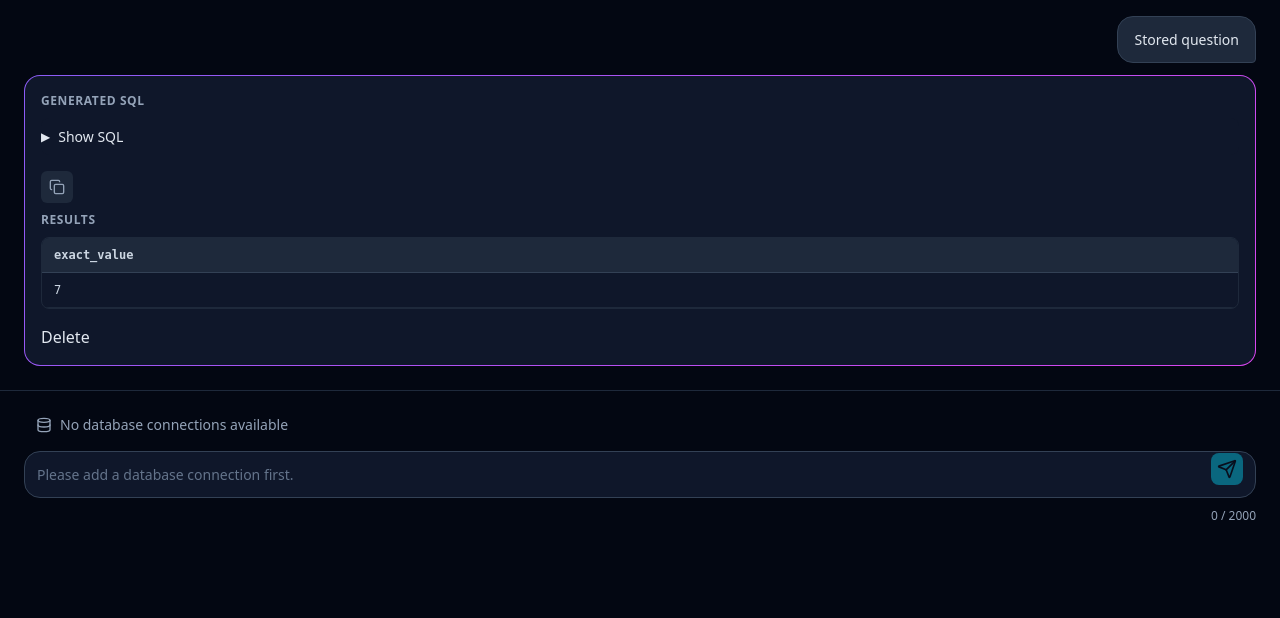
Scenario: Workspace result deletion recovery › restores the exact turn after a definite failure and retries once
This screenshot has width=1280, height=618.
Click the button with test id "action-delete-result" at (65, 337), box [41,325,90,349]
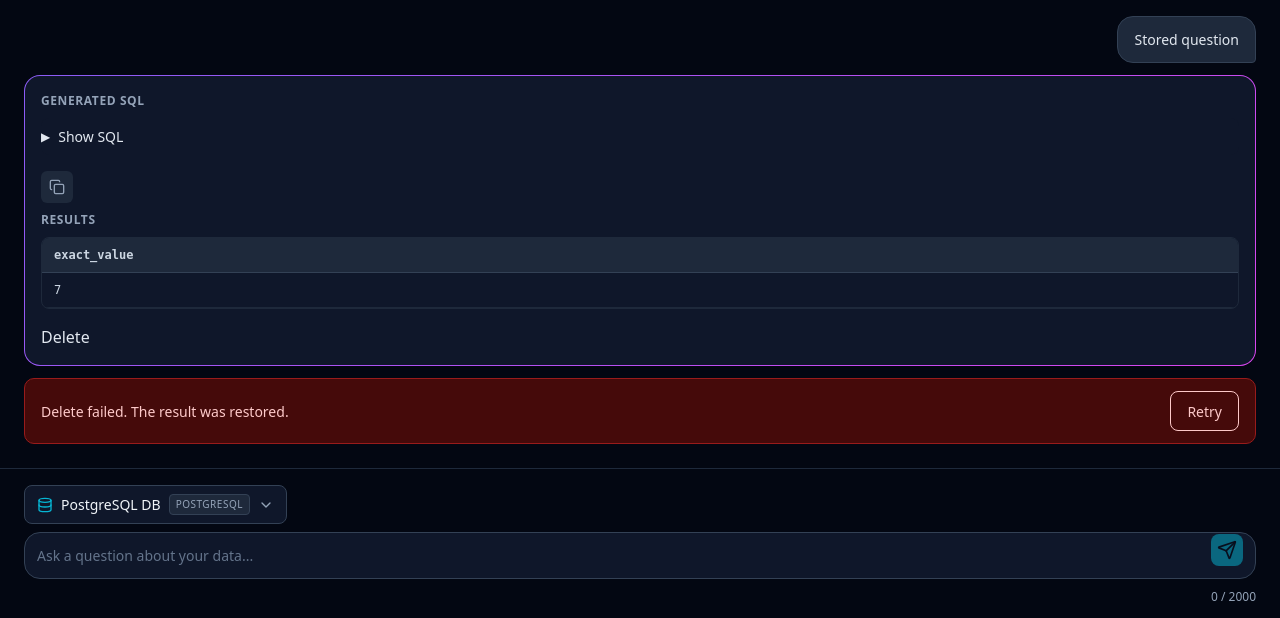
Expected: the text "Stored question" is shown, [1134,29,1239,50]
Expected: the cell "7" is shown, [42,272,1238,308]
Click the button "Retry" at (1205, 411), box [1170,391,1239,431]
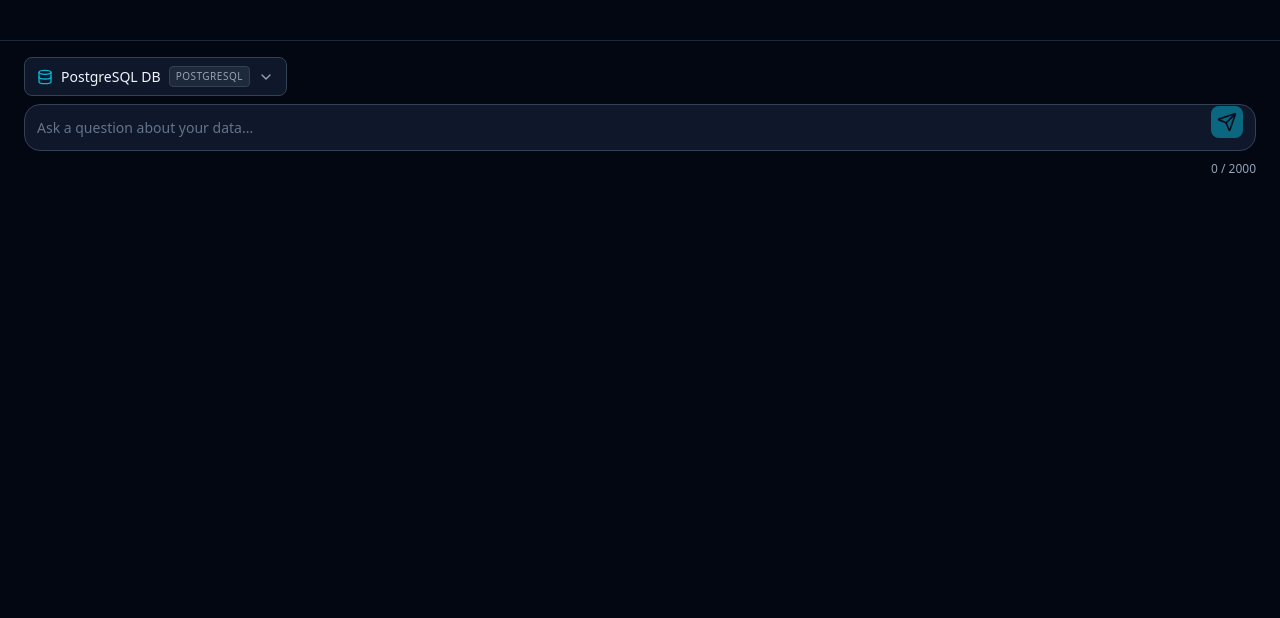
Now the text "Stored question" is gone
